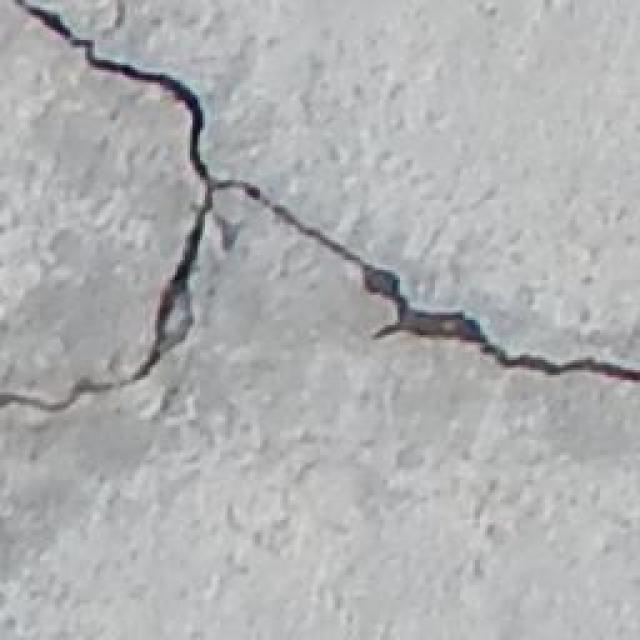concrete-crack: (2, 0, 640, 417)
